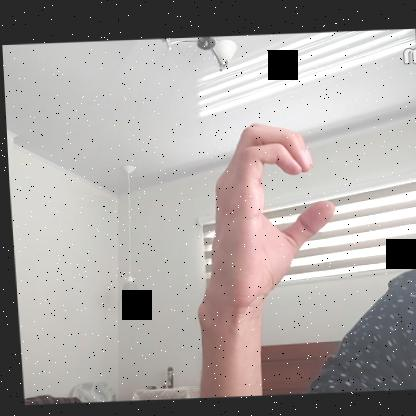C: (194, 121, 340, 302)
